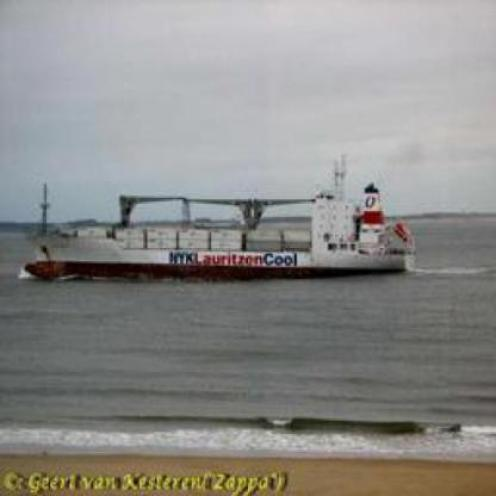Ship: (32, 193, 421, 279)
